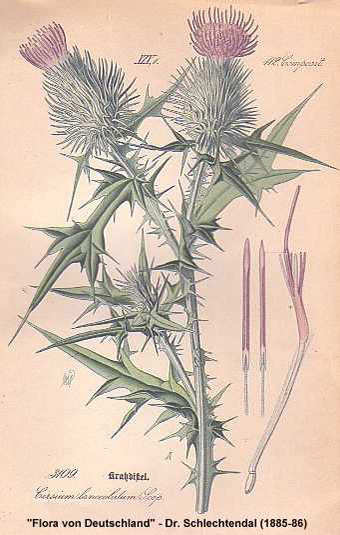thistle: (18, 27, 139, 144), (175, 7, 260, 154)
